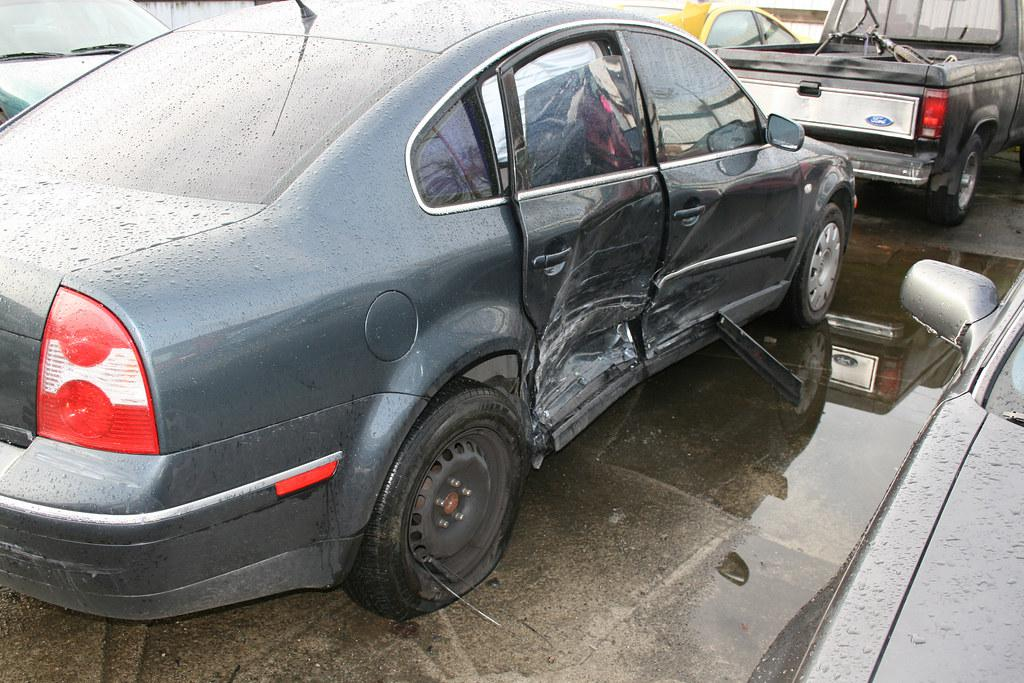RunningBoard-Dent: (531, 366, 645, 458)
doorouter-dent: (527, 188, 674, 374), (672, 157, 801, 320)
